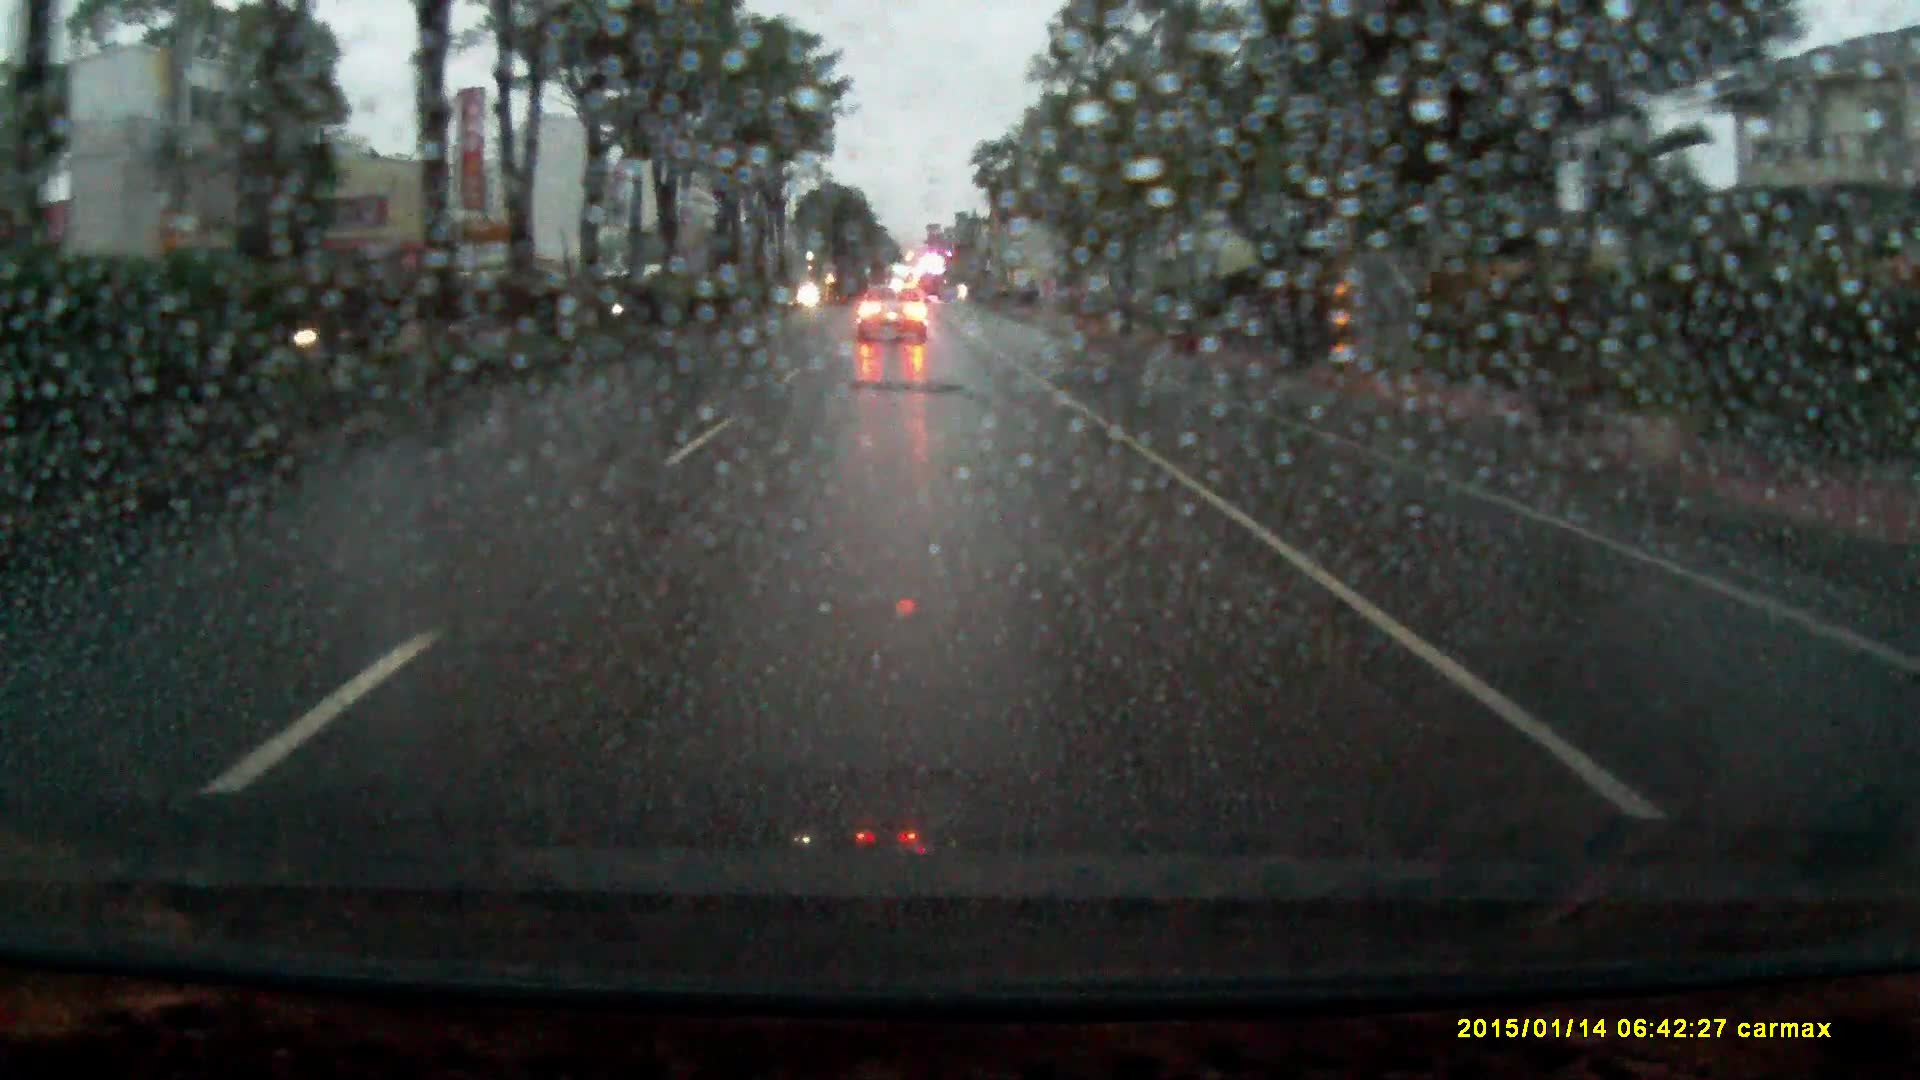vehicle: (857, 290, 928, 349)
